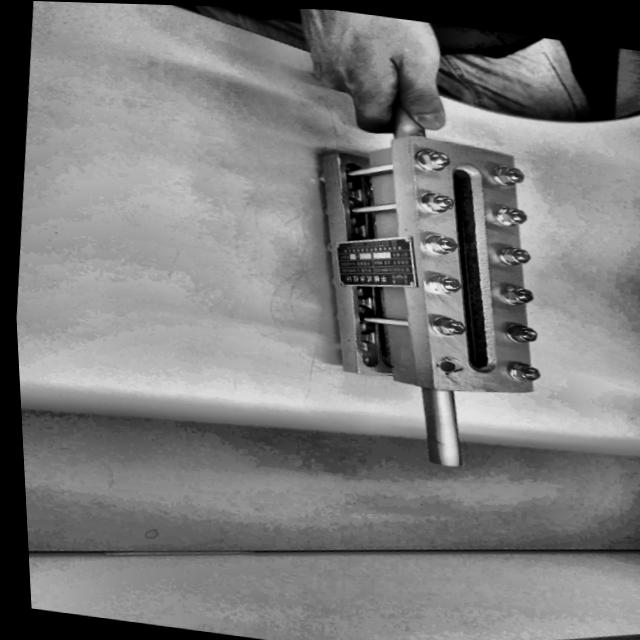ShuiWeiQi_11: (262, 108, 589, 488)
